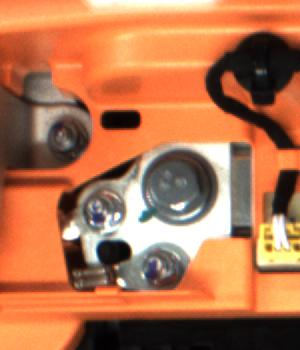nut_b: (138, 145, 215, 224)
screw_s: (139, 250, 182, 287), (81, 188, 117, 232), (37, 121, 80, 157)
